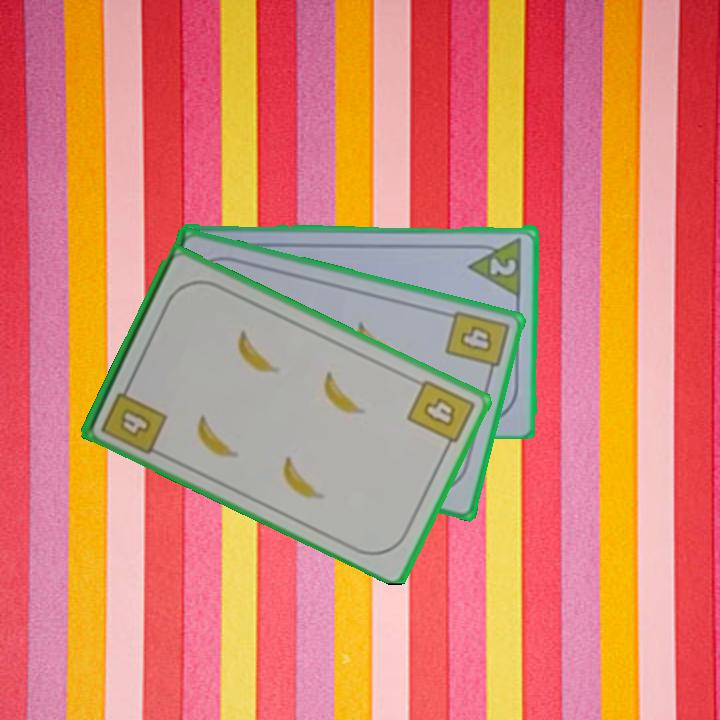2p: (465, 233, 525, 297)
4b: (403, 376, 478, 455), (97, 377, 170, 458), (442, 307, 512, 381)
